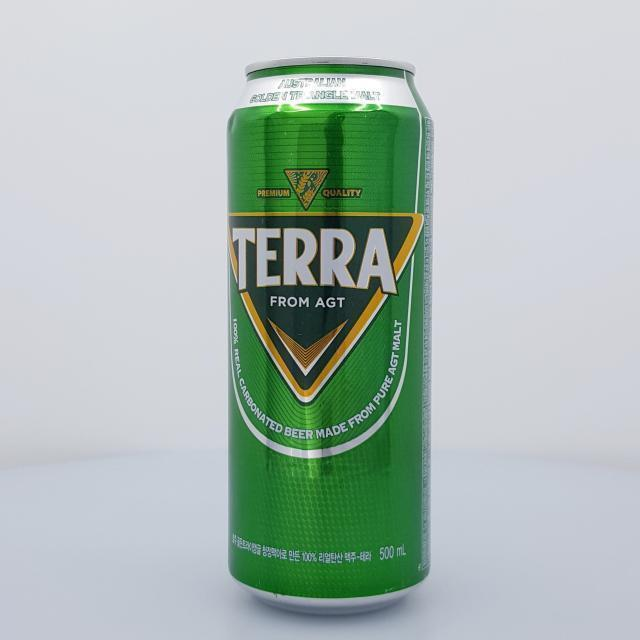can: (222, 54, 439, 619)
